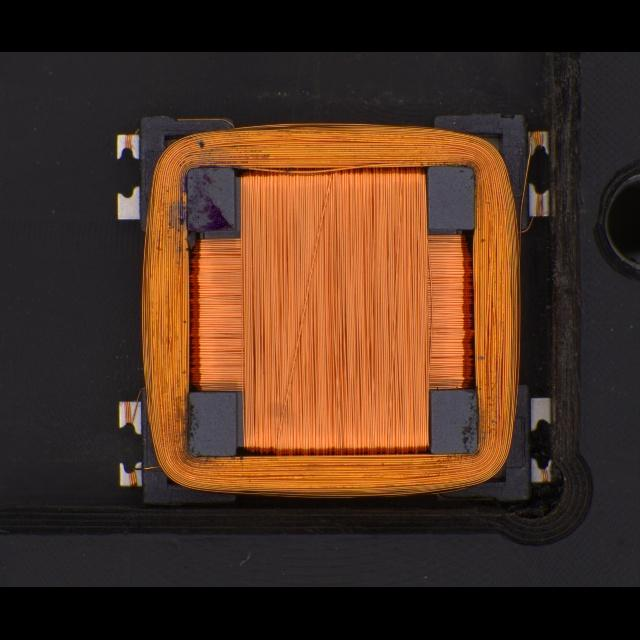Winding_Z: (135, 115, 526, 501)
